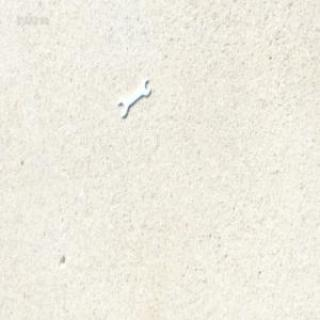Wrenchtrack_idkeyframe: (117, 76, 152, 117)
